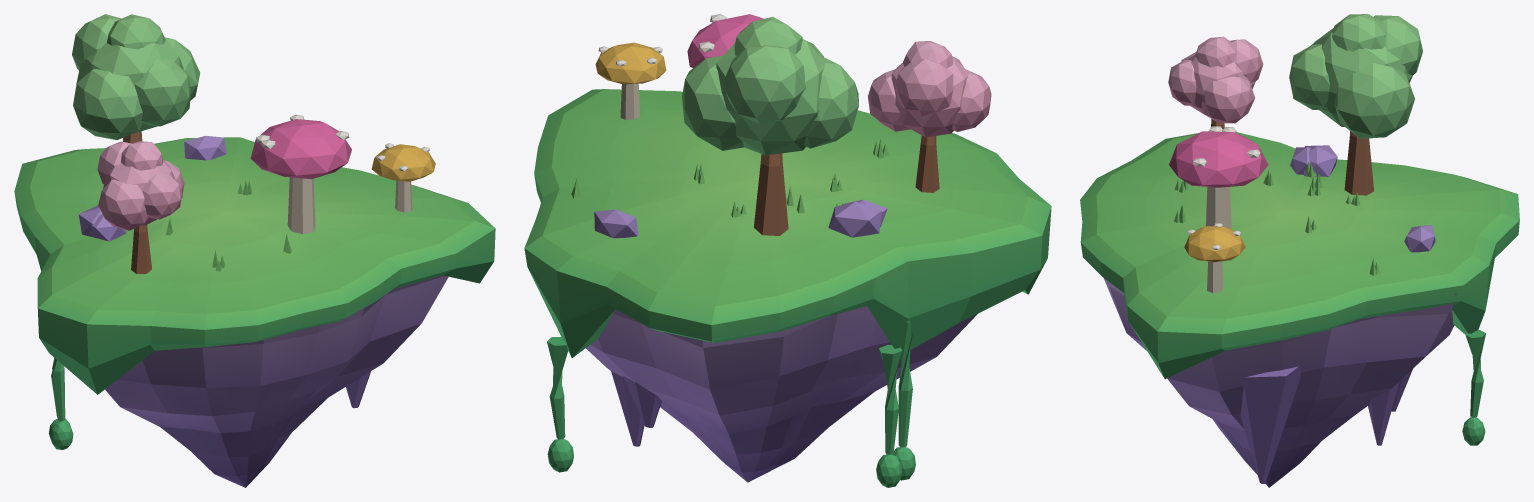
Rendered from obby_island_grove.fbx.
The picture shows the model from 3 angles, left to right: view 1: azimuth 30°, elevation 25°; view 2: azimuth 150°, elevation 25°; view 3: azimuth 270°, elevation 25°; orthographic projection. The views are drawn at different scales.
Visible parts, largest first — view 1: obby_island_grove; view 2: obby_island_grove; view 3: obby_island_grove.
Boxes of the visible parts, left/top/right/bottom form: obby_island_grove: left=14, top=14, right=495, bottom=487; obby_island_grove: left=524, top=14, right=1051, bottom=487; obby_island_grove: left=1080, top=14, right=1519, bottom=487.
Bounding box in the file's own units: 46.49 × 46.6 × 42.09.
